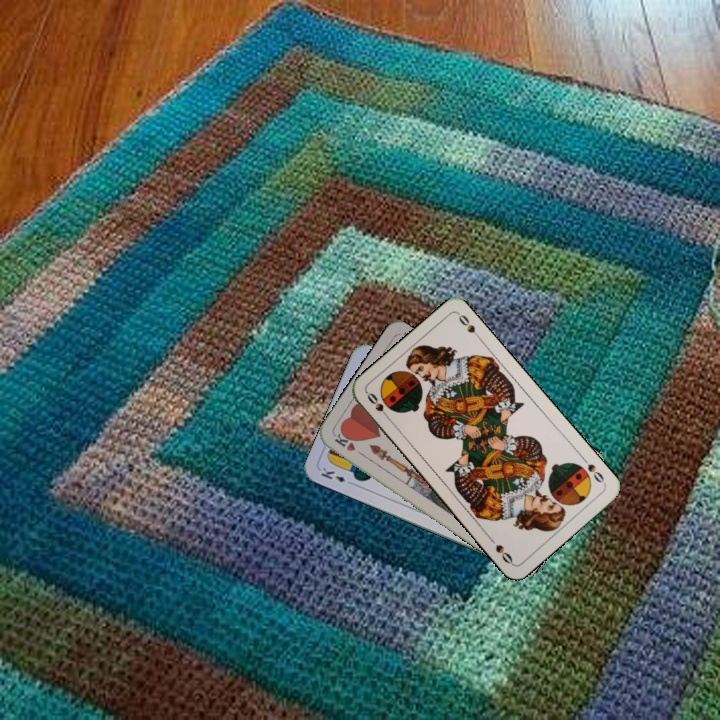EK: (317, 463, 356, 487)
HK: (331, 429, 367, 459)
SO: (363, 388, 393, 423), (578, 453, 608, 487)
